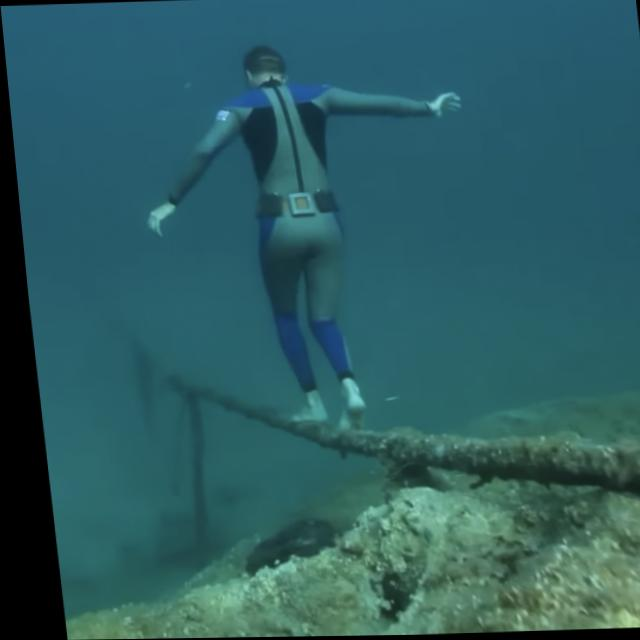human: (119, 31, 491, 449)
